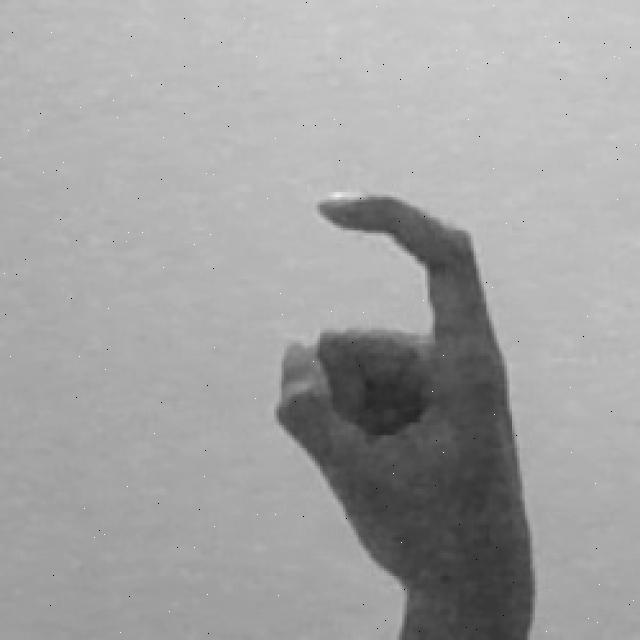X: (270, 183, 542, 640)
